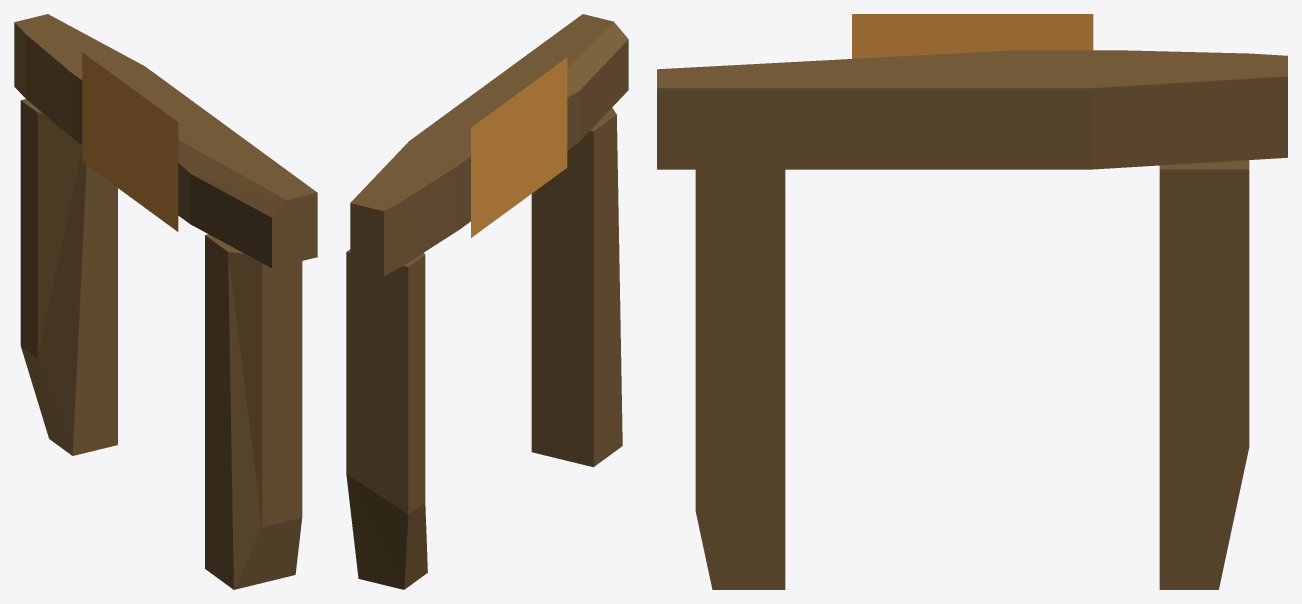
File: MineEntrance.dae
The picture shows the model from 3 angles, left to right: view 1: azimuth 30°, elevation 25°; view 2: azimuth 150°, elevation 25°; view 3: azimuth 270°, elevation 25°; orthographic projection. The views are drawn at different scales.
Parts seen in each view (by area): view 1: Cube, Cube.001, Cube.002, Plane; view 2: Cube, Cube.001, Cube.002, Plane; view 3: Cube.002, Cube, Cube.001, Plane.
Boxes of the visible parts, left/top/right/bottom form: Cube: left=205, top=234, right=302, bottom=589; Cube.001: left=20, top=99, right=117, bottom=455; Cube.002: left=14, top=14, right=317, bottom=268; Plane: left=82, top=52, right=178, bottom=231; Cube: left=531, top=107, right=622, bottom=467; Cube.001: left=346, top=249, right=427, bottom=589; Cube.002: left=350, top=14, right=628, bottom=275; Plane: left=471, top=57, right=567, bottom=237; Cube.002: left=657, top=50, right=1287, bottom=169; Cube: left=695, top=169, right=785, bottom=589; Cube.001: left=1159, top=160, right=1249, bottom=589; Plane: left=852, top=14, right=1093, bottom=58.
Bounding box in the file's own units: 0.3885 × 2.72 × 2.56.
